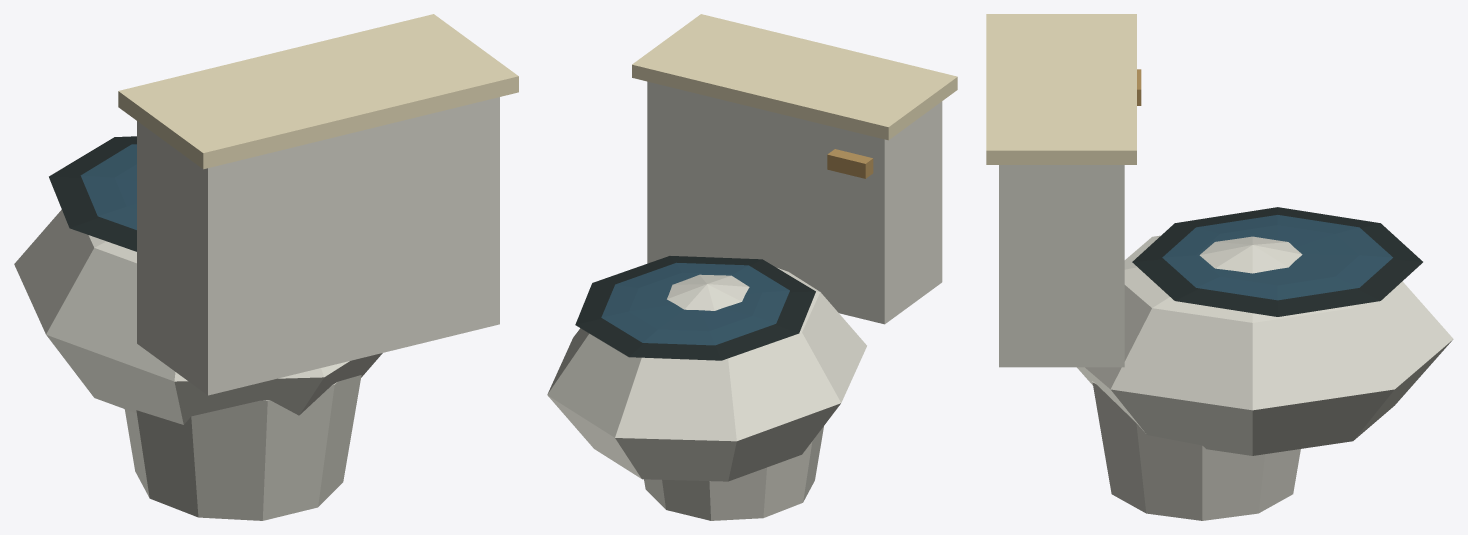
File: LP_StaffToilet_Toilet02.fbx
3 views of the same model, side by side, from view 1: azimuth 30°, elevation 25°; view 2: azimuth 150°, elevation 25°; view 3: azimuth 270°, elevation 25° (orthographic). The views are drawn at different scales.
Visible parts, largest first — view 1: M_Museum_Porcelain, WarmIvory, Charcoal, M_Museum_DeepBlue; view 2: M_Museum_Porcelain, WarmIvory, M_Museum_DeepBlue, Charcoal, AgedBrass; view 3: M_Museum_Porcelain, WarmIvory, M_Museum_DeepBlue, Charcoal.
Part boxes in pixels (bbox=[...]): M_Museum_Porcelain: bbox=[14, 97, 499, 520]; WarmIvory: bbox=[118, 14, 518, 169]; Charcoal: bbox=[49, 136, 136, 251]; M_Museum_DeepBlue: bbox=[80, 144, 136, 229]; M_Museum_Porcelain: bbox=[547, 81, 942, 520]; WarmIvory: bbox=[632, 14, 957, 140]; M_Museum_DeepBlue: bbox=[601, 262, 789, 345]; Charcoal: bbox=[575, 256, 815, 360]; AgedBrass: bbox=[827, 149, 873, 178]; M_Museum_Porcelain: bbox=[999, 165, 1453, 520]; WarmIvory: bbox=[986, 14, 1136, 164]; M_Museum_DeepBlue: bbox=[1162, 215, 1392, 300]; Charcoal: bbox=[1132, 207, 1422, 316].
Size of the model in its own units: 65 by 85 by 90.
